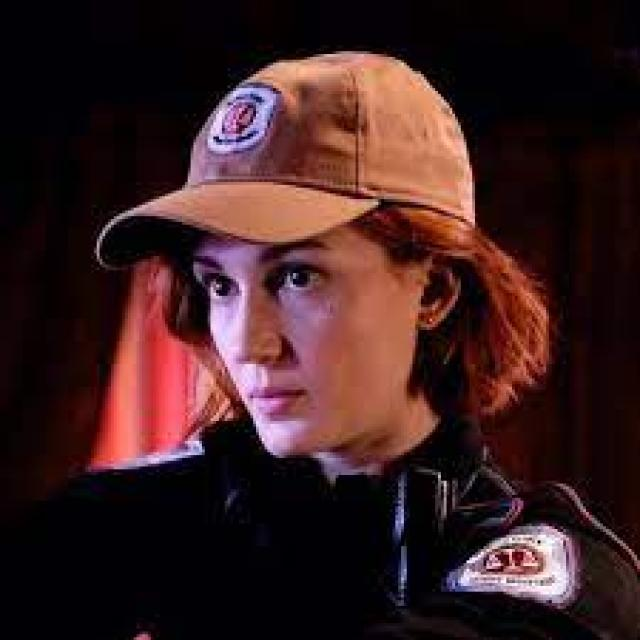Cap: (62, 22, 508, 310)
